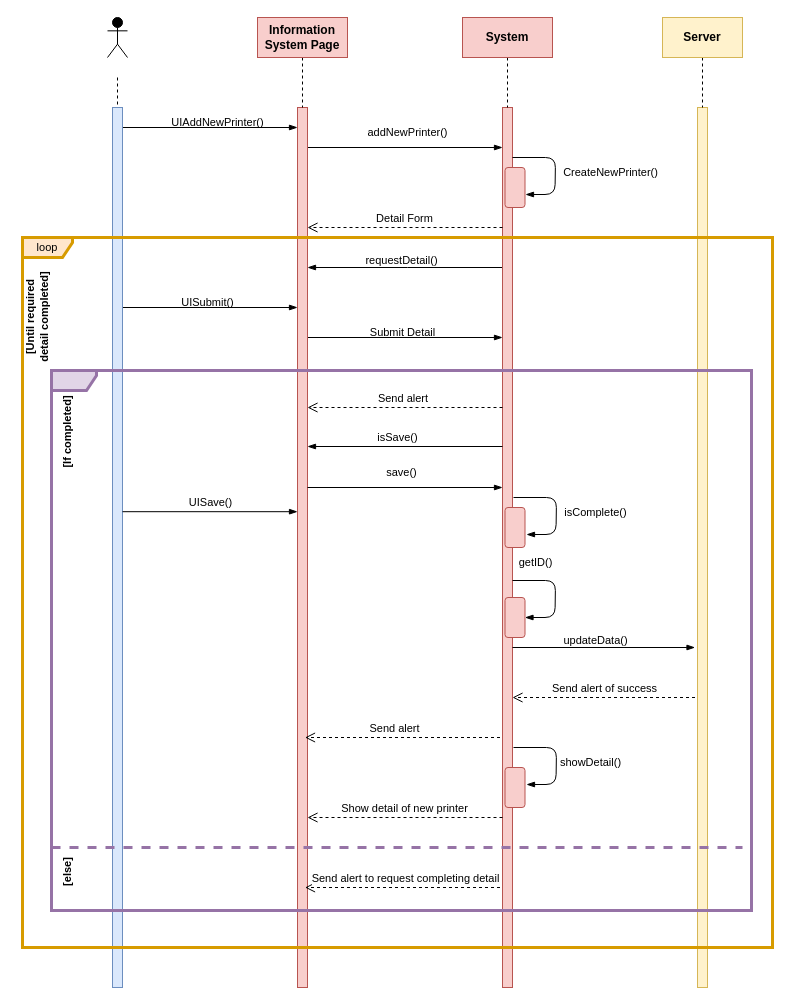
Some shapes in this 791 by 1005 pixel diagram are drawn without their labels. Each missing label, with the box of its shape:
Alt: (50, 368, 752, 912)
SPSO: (106, 16, 128, 58)
